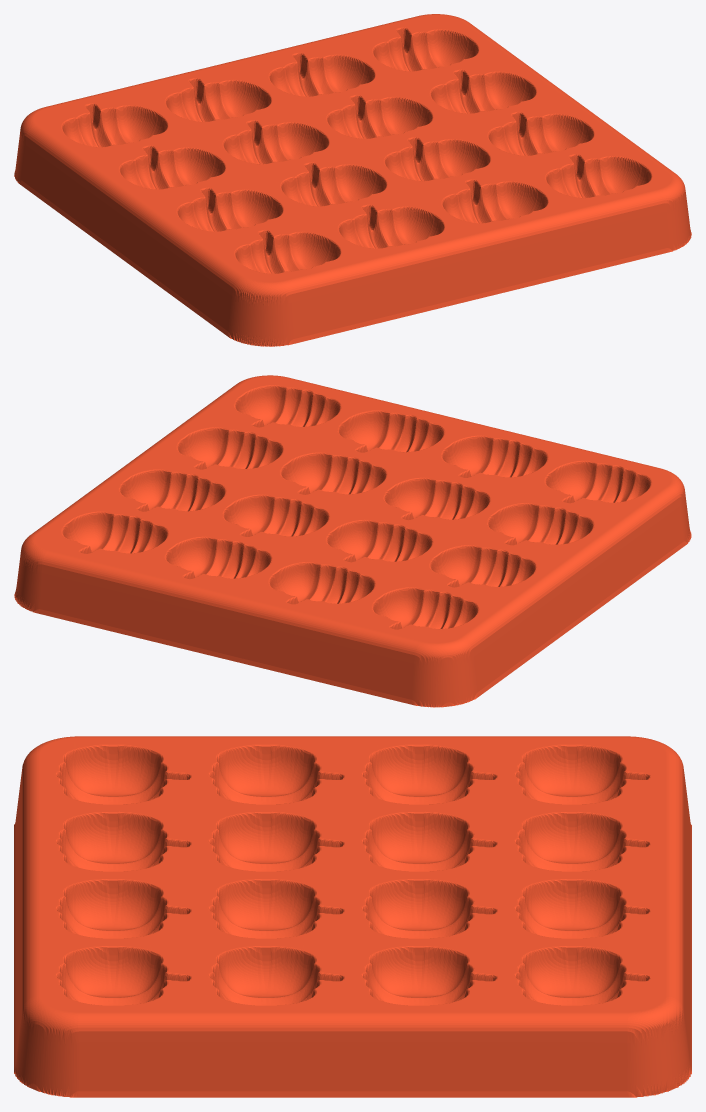
File: mold.glb
3 renders of one model, top to bottom at view 1: azimuth 30°, elevation 25°; view 2: azimuth 150°, elevation 25°; view 3: azimuth 270°, elevation 25°, orthographic. The views are drawn at different scales.
Parts seen in each view (by area): view 1: geometry_0; view 2: geometry_0; view 3: geometry_0.
Part boxes in pixels (bbox=[...]): geometry_0: bbox=[14, 14, 691, 346]; geometry_0: bbox=[14, 375, 691, 707]; geometry_0: bbox=[14, 736, 691, 1097].
Size of the model in its own units: 0.0972 by 0.0114 by 0.094.
